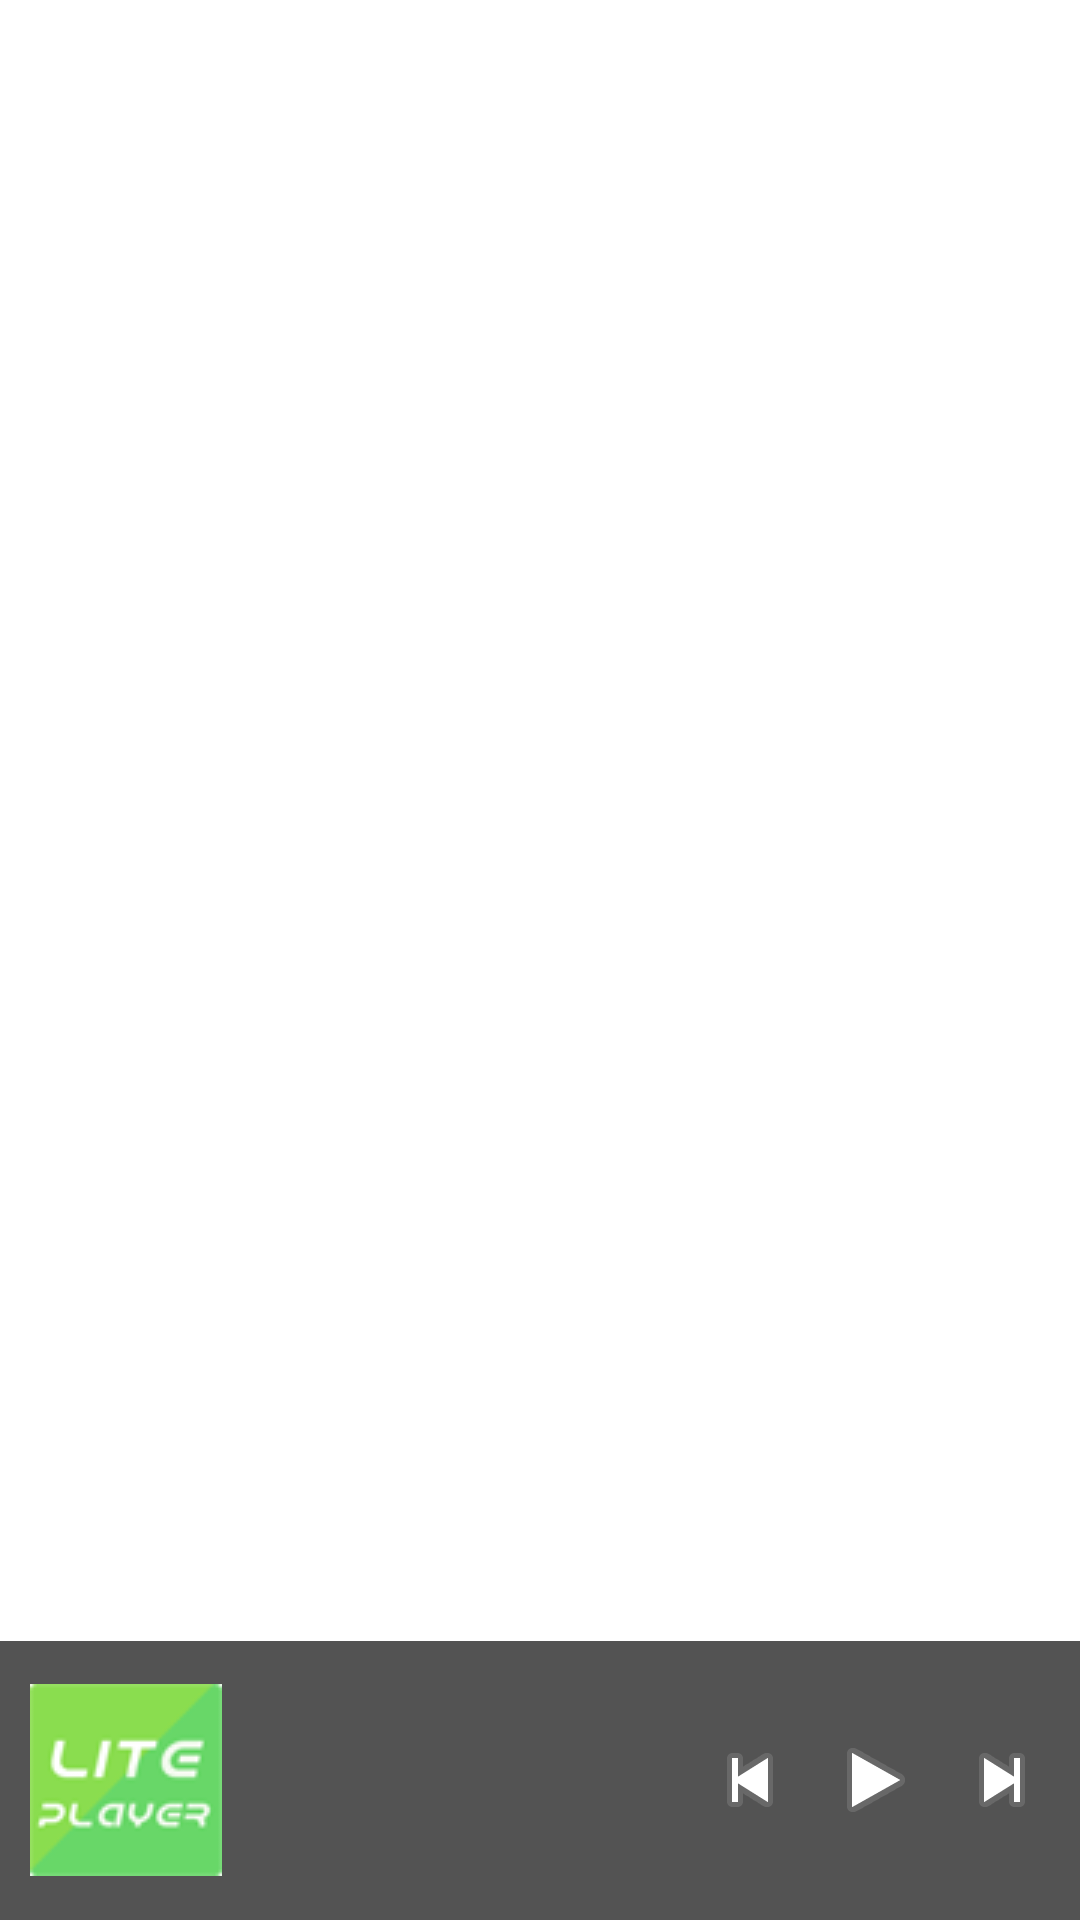

Named icons in this screenshot (1080px×1920px) and their centers, (x,y):
next: (1002,1780)
play: (876,1780)
previous: (750,1780)
